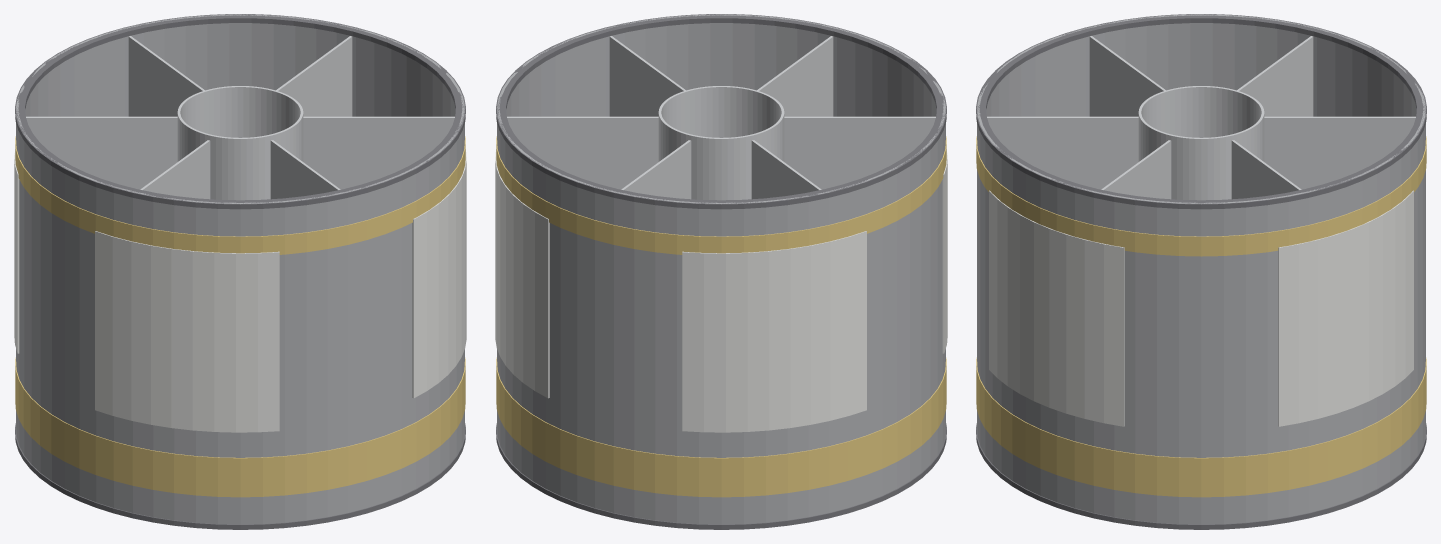
Rendered from cmd10_service_bay_xl.glb.
3 views of the same model, side by side, from view 1: azimuth 30°, elevation 25°; view 2: azimuth 150°, elevation 25°; view 3: azimuth 270°, elevation 25° (orthographic).
Visible parts, largest first — view 1: skin, radiator_panels, sector_bulkheads, mli_bands, stack_rings, central_tube; view 2: skin, radiator_panels, sector_bulkheads, mli_bands, stack_rings, central_tube; view 3: skin, radiator_panels, sector_bulkheads, mli_bands, stack_rings, central_tube.
Boxes of the visible parts, x1=… form: skin: x1=16, y1=14, x2=464, y2=524; radiator_panels: x1=14, y1=150, x2=466, y2=432; sector_bulkheads: x1=26, y1=36, x2=454, y2=199; mli_bands: x1=15, y1=136, x2=465, y2=497; stack_rings: x1=15, y1=14, x2=465, y2=529; central_tube: x1=177, y1=86, x2=303, y2=200; skin: x1=497, y1=14, x2=945, y2=524; radiator_panels: x1=495, y1=150, x2=947, y2=432; sector_bulkheads: x1=507, y1=36, x2=935, y2=199; mli_bands: x1=496, y1=136, x2=946, y2=497; stack_rings: x1=496, y1=14, x2=946, y2=529; central_tube: x1=658, y1=86, x2=784, y2=200; skin: x1=977, y1=14, x2=1425, y2=524; radiator_panels: x1=989, y1=190, x2=1413, y2=426; sector_bulkheads: x1=987, y1=36, x2=1415, y2=199; mli_bands: x1=976, y1=136, x2=1426, y2=497; stack_rings: x1=976, y1=14, x2=1426, y2=529; central_tube: x1=1138, y1=86, x2=1264, y2=200.
Bounding box in the file's own units: 5.02 × 4 × 5.02.
